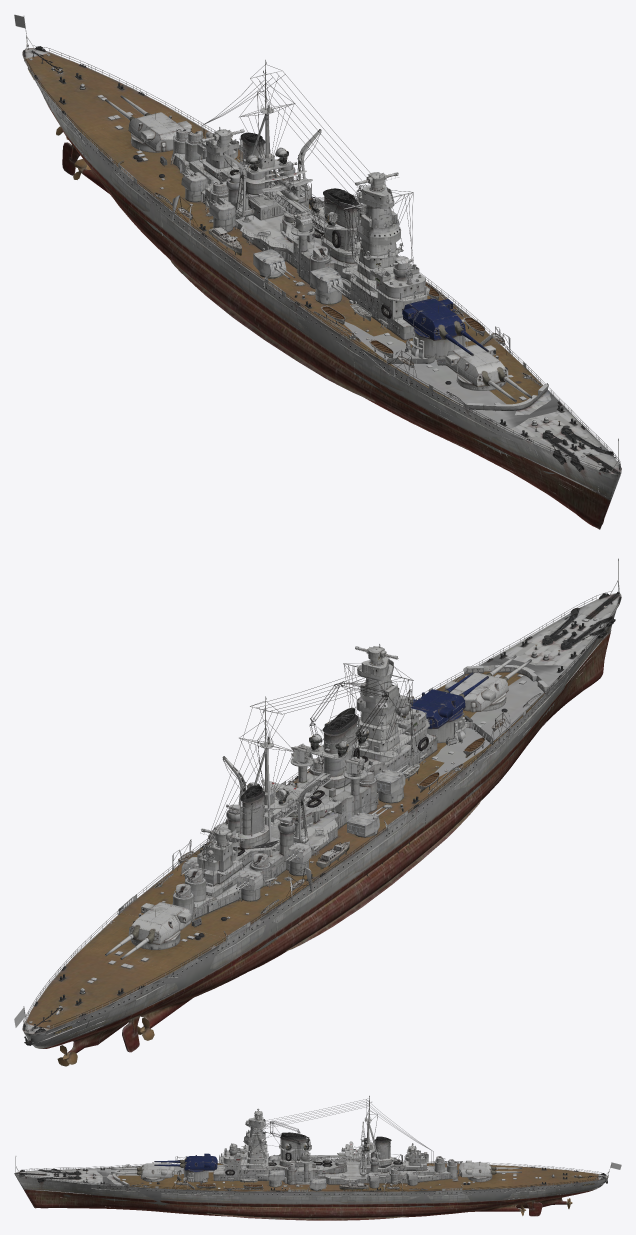
Rendered from sevastopol_war_thunder_leviathans-maximum-compressed.glb.
3 views of the same model, one above another, from view 1: azimuth 30°, elevation 25°; view 2: azimuth 150°, elevation 25°; view 3: azimuth 270°, elevation 25° (orthographic). The views are drawn at different scales.
Parts seen in each view (by area): view 1: Object_18, Object_85, Object_5, Object_83, Object_26, Object_16, Object_6, Object_19, Object_84, Object_15, Object_28, Object_52 (+9 smaller); view 2: Object_18, Object_85, Object_5, Object_83, Object_26, Object_16, Object_15, Object_6, Object_19, Object_28, Object_84, Object_77 (+9 smaller); view 3: Object_18, Object_85, Object_5, Object_83, Object_16, Object_6, Object_26, Object_15, Object_19, Object_84, Object_28, Object_52 (+12 smaller).
Part boxes in pixels (box(x1,y1,x2,y2)): Object_18: box(22, 48, 621, 499); Object_85: box(44, 99, 611, 529); Object_5: box(25, 53, 466, 341); Object_83: box(27, 68, 505, 390); Object_26: box(23, 48, 620, 473); Object_16: box(173, 107, 399, 335); Object_6: box(82, 111, 542, 404); Object_19: box(206, 131, 548, 410); Object_84: box(234, 184, 403, 291); Object_15: box(238, 132, 400, 296); Object_28: box(23, 48, 620, 469); Object_52: box(105, 95, 532, 402); Object_18: box(22, 593, 621, 1048); Object_85: box(39, 630, 611, 1053); Object_5: box(26, 758, 466, 1029); Object_83: box(55, 646, 505, 1034); Object_26: box(23, 593, 621, 1033); Object_16: box(173, 735, 433, 918); Object_15: box(238, 668, 407, 855); Object_6: box(83, 671, 544, 970); Object_19: box(119, 665, 548, 913); Object_28: box(24, 591, 620, 1028); Object_84: box(264, 656, 403, 850); Object_77: box(23, 606, 613, 1040); Object_18: box(14, 1163, 608, 1210); Object_85: box(23, 1189, 596, 1220); Object_5: box(225, 1163, 598, 1191); Object_83: box(141, 1111, 594, 1185); Object_16: box(218, 1118, 458, 1188); Object_6: box(116, 1163, 507, 1191); Object_26: box(16, 1133, 607, 1185); Object_15: box(244, 1127, 392, 1184); Object_19: box(113, 1132, 461, 1191); Object_84: box(244, 1117, 368, 1180); Object_28: box(19, 1099, 598, 1191); Object_52: box(111, 1162, 521, 1179).
Size of the model in its own units: 31.85 by 52.65 by 257.
31 materials, 31 textured.
